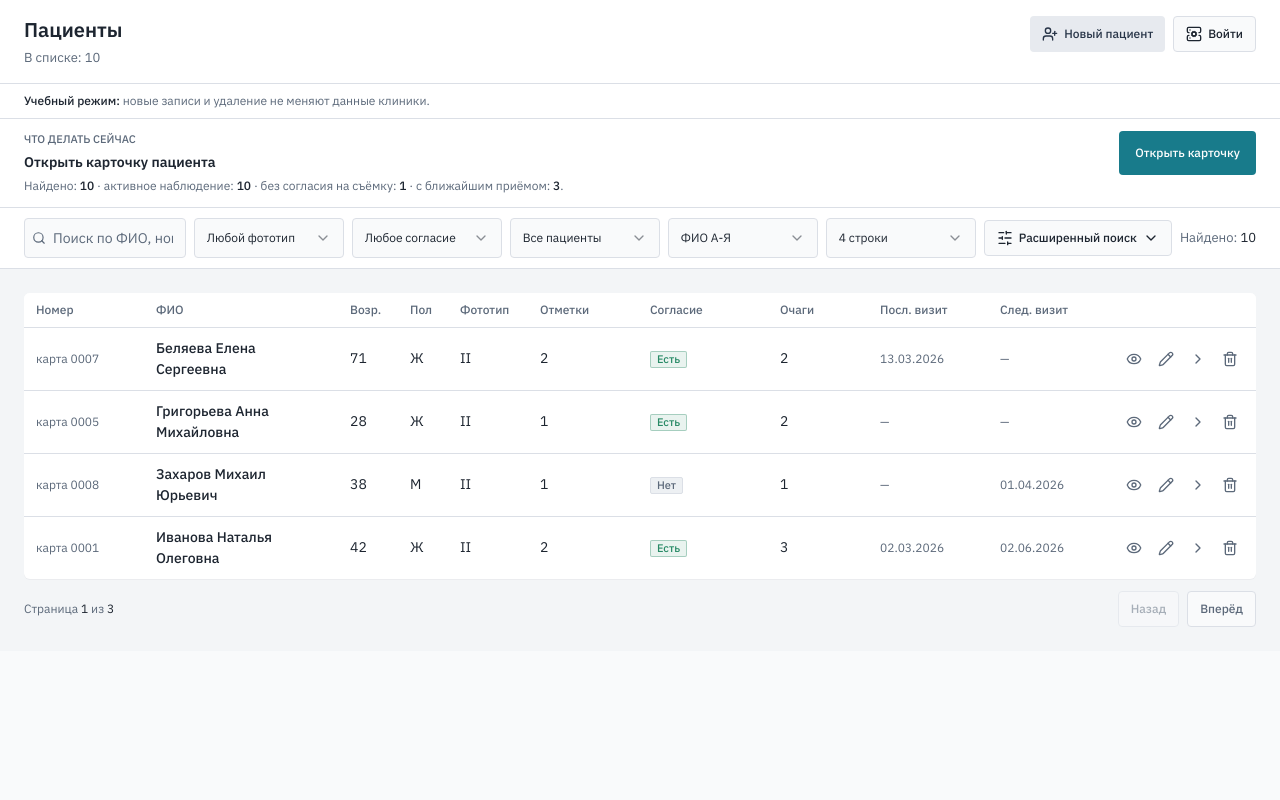
Test: PatientsPage › clicking new patient explains that manual creation is not available in demo mode
This screenshot has width=1280, height=800.
Step 1. Click the button "Новый пациент" → x=1098, y=34, box [1030,16,1165,52]
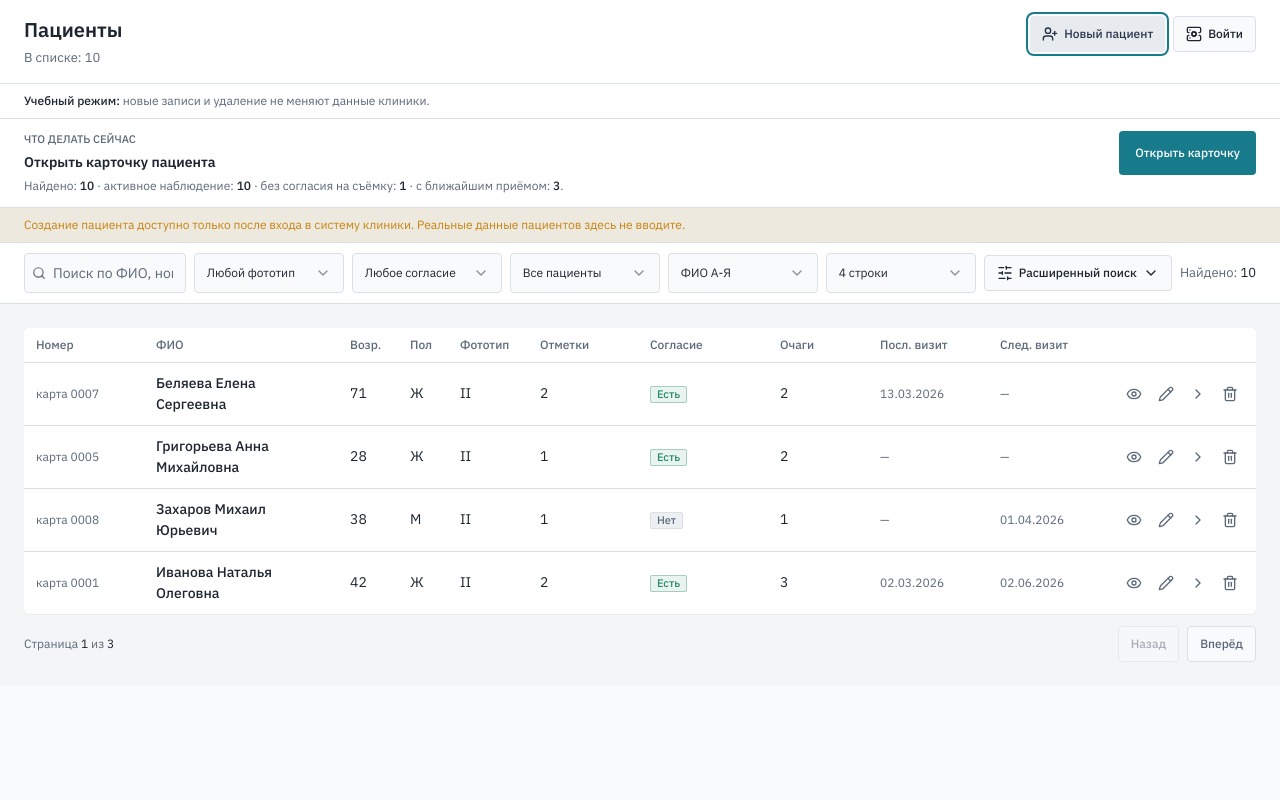
Check: the message shows "Создание пациента доступно только после входа в систему клиники", box [24,216,685,232]
Check: the message shows "Реальные данные пациентов здесь не вводите", box [24,216,685,232]
